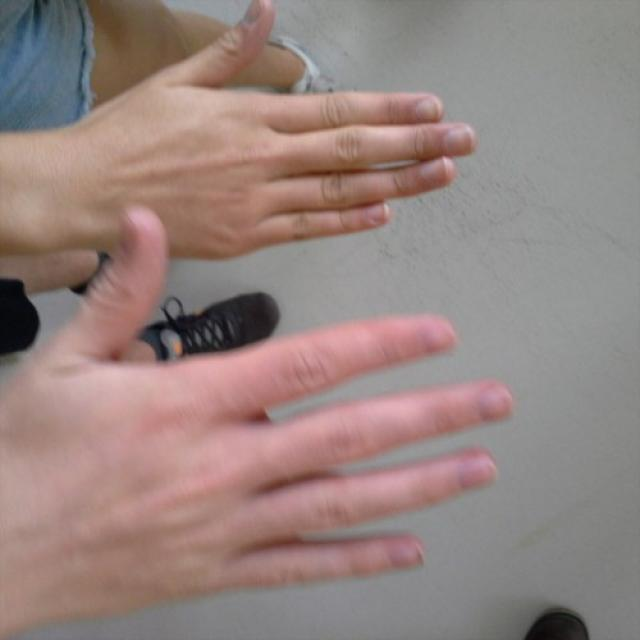paper: (81, 208, 516, 612)
